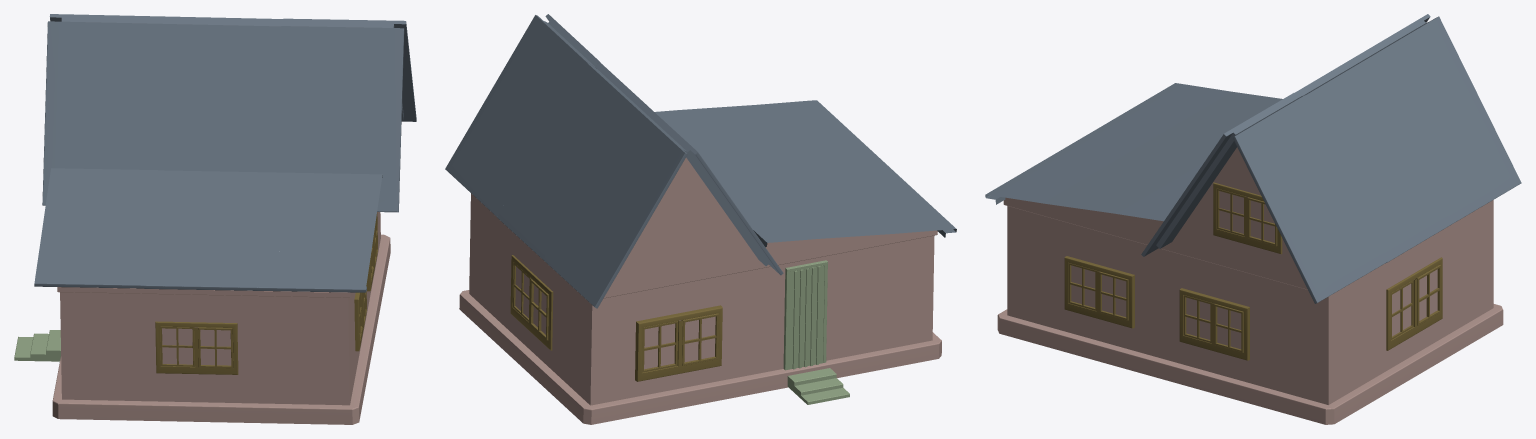
Rendered from House (1).fbx.
3 renders of one model, left to right at view 1: azimuth 30°, elevation 25°; view 2: azimuth 150°, elevation 25°; view 3: azimuth 270°, elevation 25°, orthographic. The views are drawn at different scales.
Parts seen in each view (by area): view 1: Roof_Module9, Roof_Module11, Roof_Module10, Wall_Module7, Wall_Module5, Wall_Module6, polySurface45, polySurface43, polySurface35, polySurface44, polySurface47, polySurface41 (+14 smaller); view 2: Wall_Module3, Roof_Module7, Roof_Module6, Roof_Module, Wall_Module5, Wall_Module4, Wall_Module14, Wall_ModuleDoor1, Wall_Module12, Wall_Module13, polySurface43, polySurface45 (+18 smaller); view 3: Wall_Module12, Roof_Module6, Roof_Module7, Roof_Module, Wall_Module7, Wall_Module8, Wall_Module9, Wall_Module3, Wall_Module15, Wall_Module13, polySurface45, Roof_Module9 (+20 smaller).
Boxes of the visible parts, box(x1,y1,x2,y2) form: Roof_Module9: box(277, 26, 404, 212); Roof_Module11: box(42, 21, 170, 205); Roof_Module10: box(166, 24, 281, 172); Wall_Module7: box(252, 291, 366, 424); Wall_Module5: box(52, 287, 156, 420); Wall_Module6: box(154, 289, 254, 422); polySurface45: box(260, 203, 377, 252); polySurface43: box(40, 198, 157, 248); polySurface35: box(150, 201, 267, 250); polySurface44: box(34, 246, 150, 288); polySurface47: box(255, 251, 370, 292); polySurface41: box(144, 249, 260, 288); Wall_Module3: box(542, 269, 678, 424); Roof_Module7: box(543, 105, 687, 308); Roof_Module6: box(445, 15, 596, 216); Roof_Module: box(497, 63, 637, 259); Wall_Module5: box(848, 230, 941, 375); Wall_Module4: box(674, 263, 765, 408); Wall_Module14: box(607, 157, 761, 292); Wall_ModuleDoor1: box(761, 246, 852, 391); Wall_Module12: box(459, 193, 510, 346); Wall_Module13: box(500, 231, 552, 384); polySurface43: box(771, 190, 895, 238); polySurface45: box(678, 105, 802, 152); Wall_Module12: box(1244, 265, 1390, 424); Roof_Module6: box(1232, 95, 1387, 303); Roof_Module7: box(1361, 16, 1521, 224); Roof_Module: box(1303, 58, 1451, 262); Wall_Module7: box(997, 200, 1086, 356); Wall_Module8: box(1081, 222, 1167, 379); Wall_Module9: box(1162, 245, 1249, 401); Wall_Module3: box(1439, 200, 1503, 357); Wall_Module15: box(1167, 147, 1304, 283); Wall_Module13: box(1383, 232, 1446, 390); polySurface45: box(1043, 166, 1178, 213); Roof_Module9: box(1141, 93, 1300, 256).
Size of the model in its own units: 1090 by 645 by 1110.
